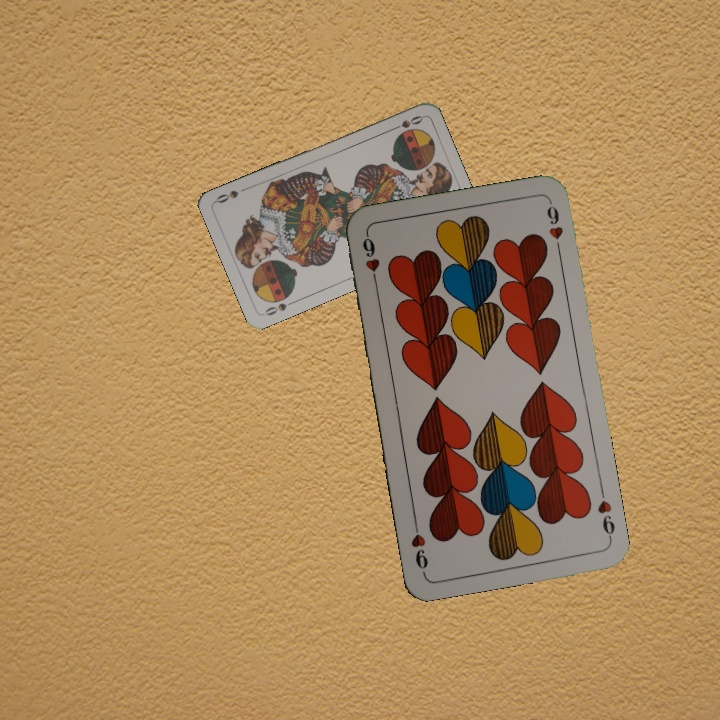H9: (358, 230, 383, 289), (593, 496, 618, 543)
SO: (386, 111, 426, 134), (260, 296, 298, 318)
